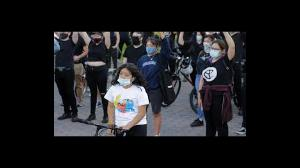mask_weared_incorrect: (117, 72, 132, 85), (129, 33, 142, 47)
with_mask: (209, 46, 221, 57), (146, 44, 156, 53), (92, 35, 101, 44), (202, 40, 211, 47), (195, 34, 204, 40)
